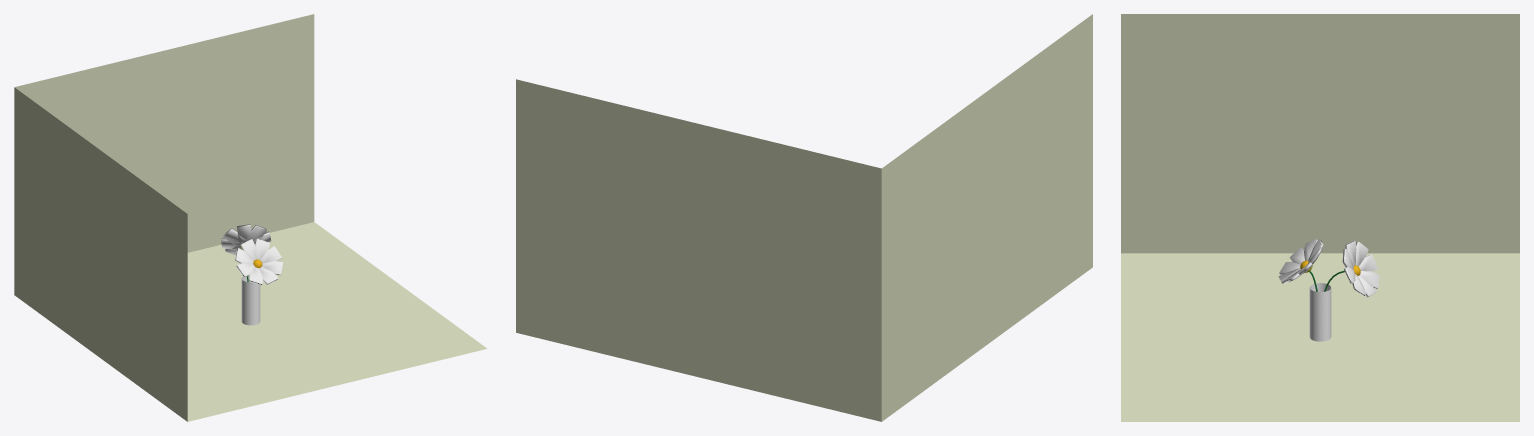
The model's file is flower .glb.
The picture shows the model from 3 angles, left to right: view 1: azimuth 30°, elevation 25°; view 2: azimuth 150°, elevation 25°; view 3: azimuth 270°, elevation 25°; orthographic projection. The views are drawn at different scales.
Parts seen in each view (by area): view 1: 平面, 円柱; view 2: 平面; view 3: 平面, 円柱.
Boxes of the visible parts, left/top/right/bottom form: 平面: left=14, top=14, right=487, bottom=421; 円柱: left=241, top=276, right=260, bottom=325; 平面: left=516, top=14, right=1092, bottom=421; 平面: left=1121, top=14, right=1519, bottom=421; 円柱: left=1309, top=283, right=1331, bottom=341.
Size of the model in its own units: 29.6 by 19.61 by 29.6.
